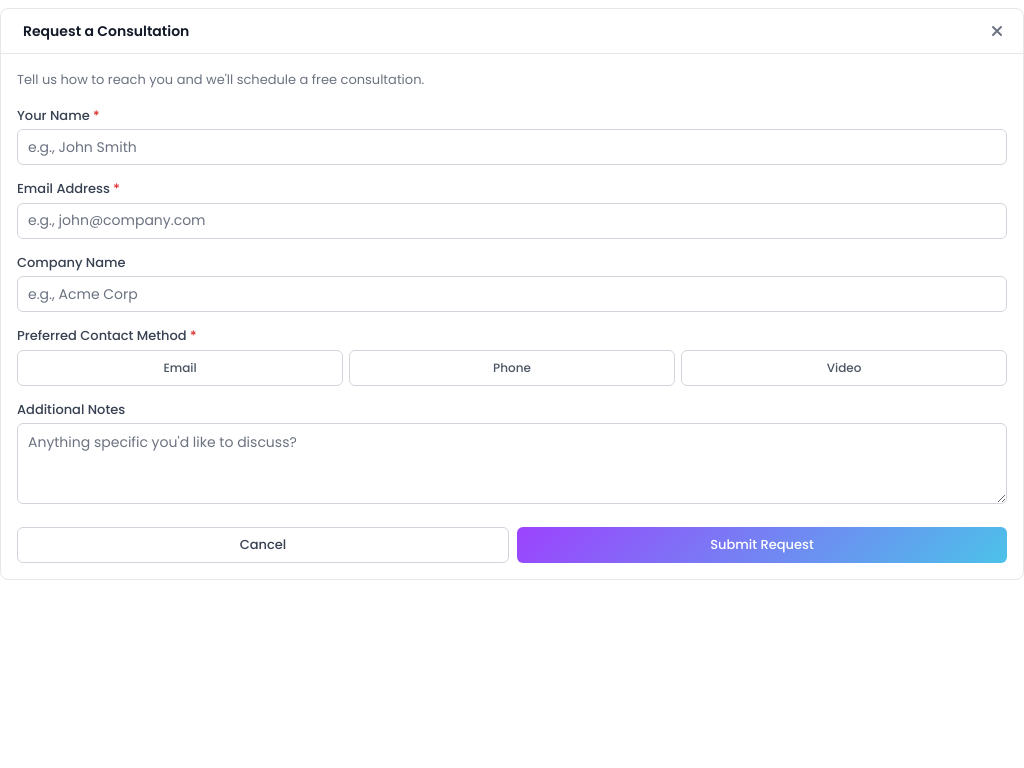
it: ConsultationRequestForm › Validation › should validate email format
Step 1. Type "invalid-email" into the field labelled "Email Address" → (512, 220), box [17,202,1007,238]
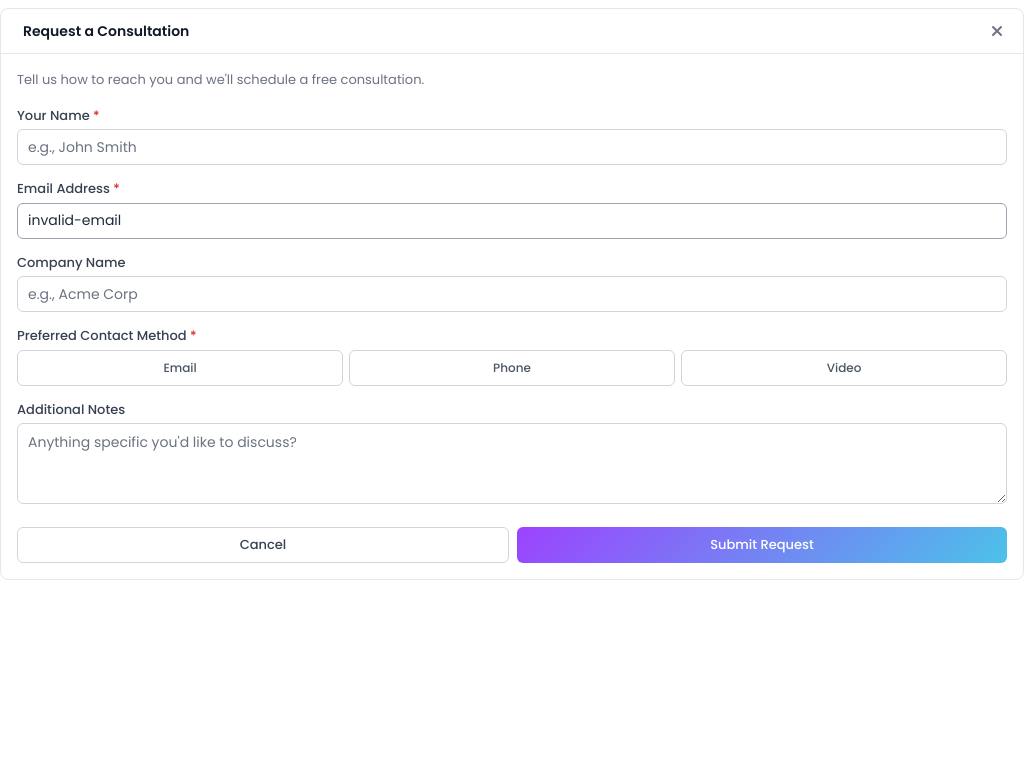
Step 2. Press Tab
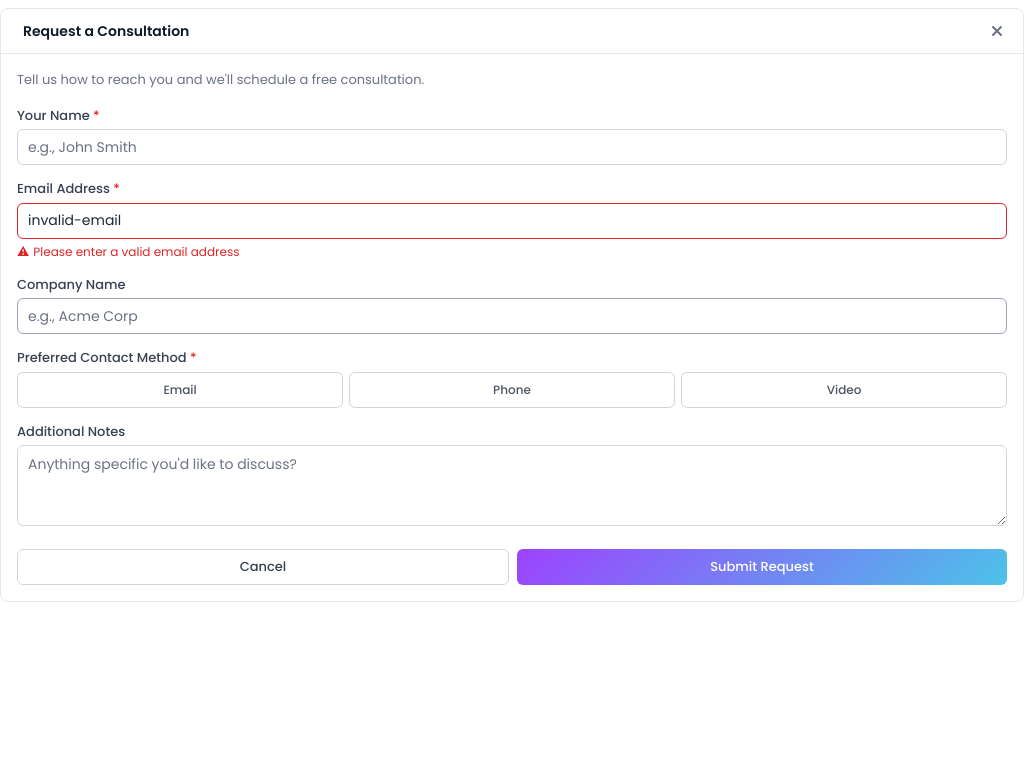
Now the text "⚠ Please enter a valid email address" is shown, box [17,242,240,260]
